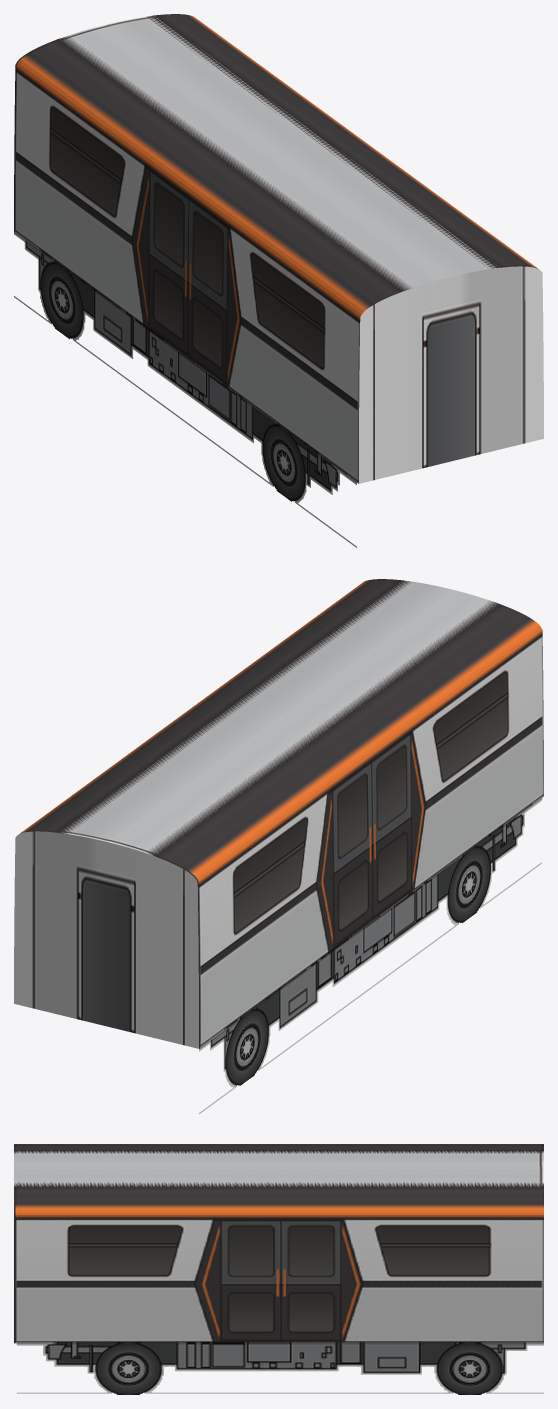
Rendered from car2.glb.
3 views of the same model, one above another, from view 1: azimuth 30°, elevation 25°; view 2: azimuth 150°, elevation 25°; view 3: azimuth 270°, elevation 25° (orthographic). The views are drawn at different scales.
Parts seen in each view (by area): view 1: saitama2020-car2; view 2: saitama2020-car2; view 3: saitama2020-car2.
Boxes of the visible parts, box(x1,y1,x2,y2) form: saitama2020-car2: box(14, 14, 543, 547); saitama2020-car2: box(14, 579, 543, 1114); saitama2020-car2: box(14, 1144, 543, 1394).
Bounding box in the file's own units: 2.48 × 3.22 × 8.
6 materials, 5 textured.
